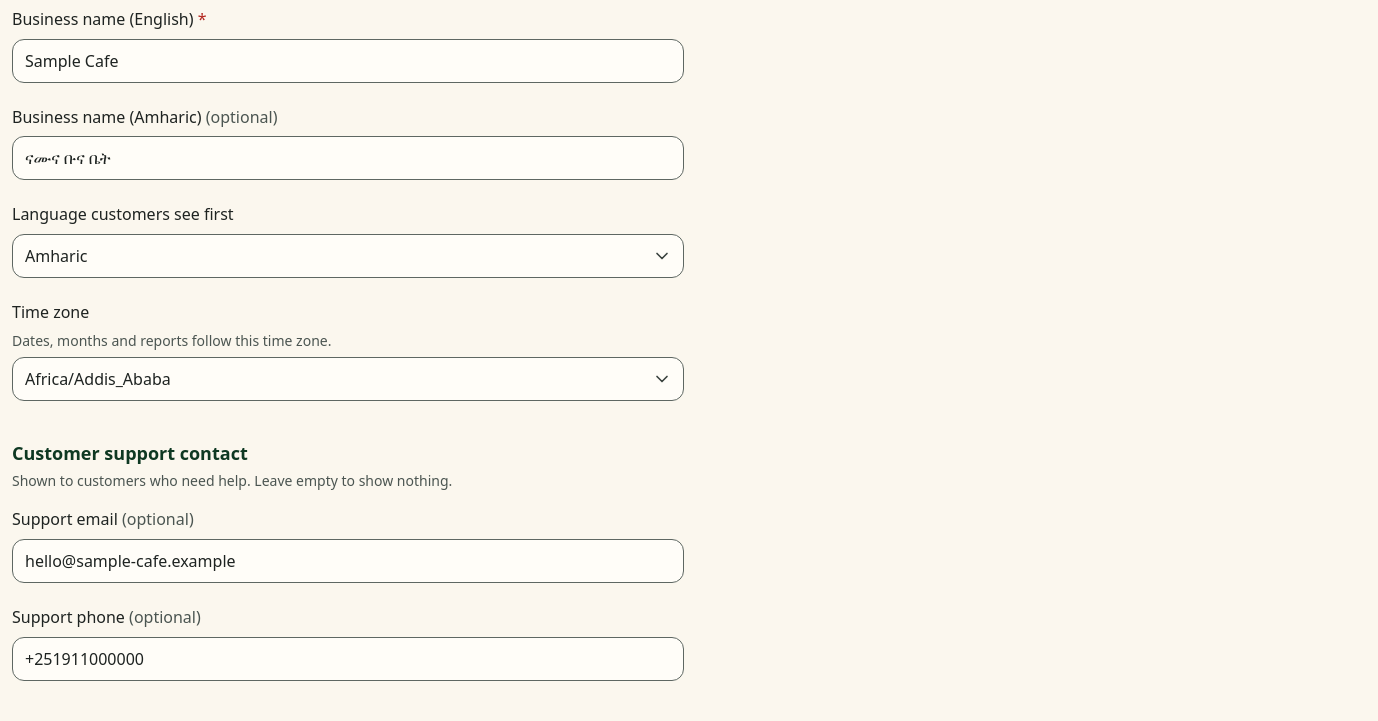
Scenario: settings screen › saves only the changed fields and shows the saved profile
The image size is (1378, 721).
Replace the text in the field labelled "Business name (English) *" with "Sample Cafe Bole" at (348, 61), box [12,39,684,83]
(page scrolled)
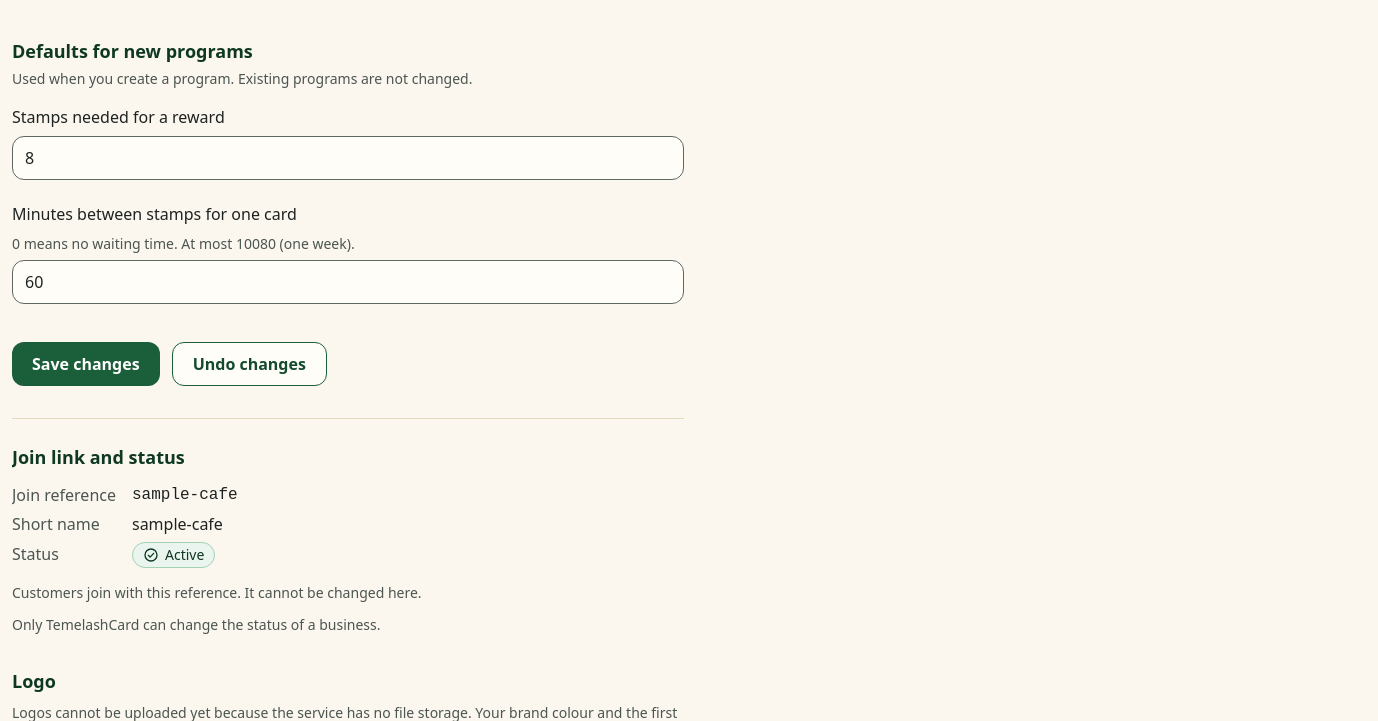
Click the button "Save changes".
click(86, 364)  # box [12,342,160,386]
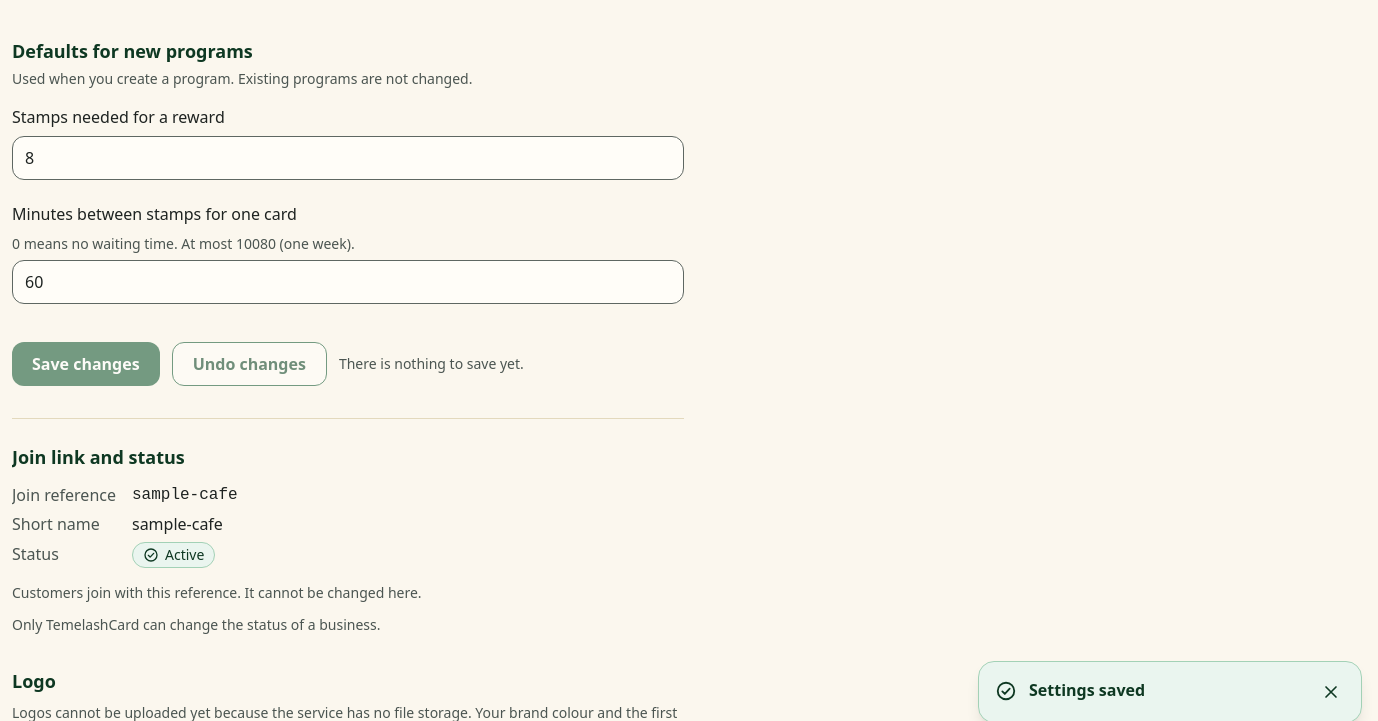
Expected: the text "Settings saved" is shown, [1029,679,1145,701]
Expected: the button "Save changes" is disabled, [12,342,160,386]
